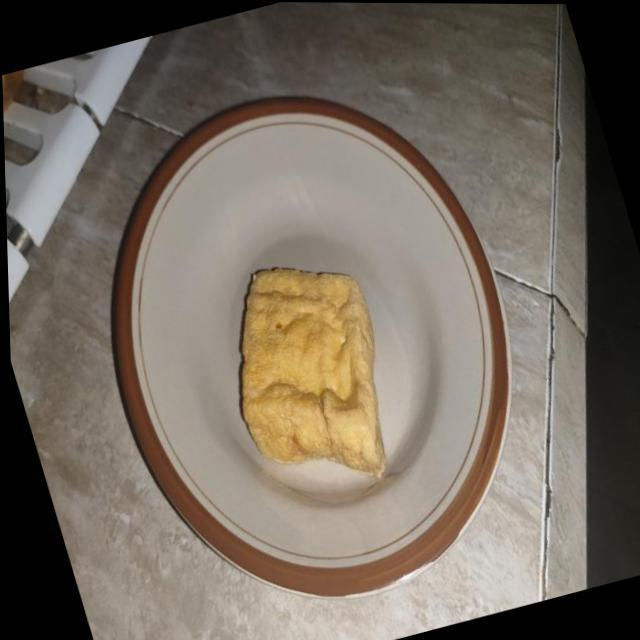tahu_goreng: (239, 267, 385, 476)
